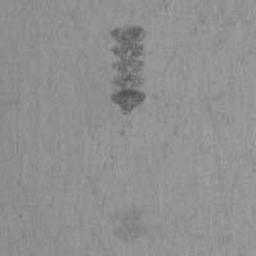Oil spot: (108, 23, 148, 118), (105, 198, 150, 247)
